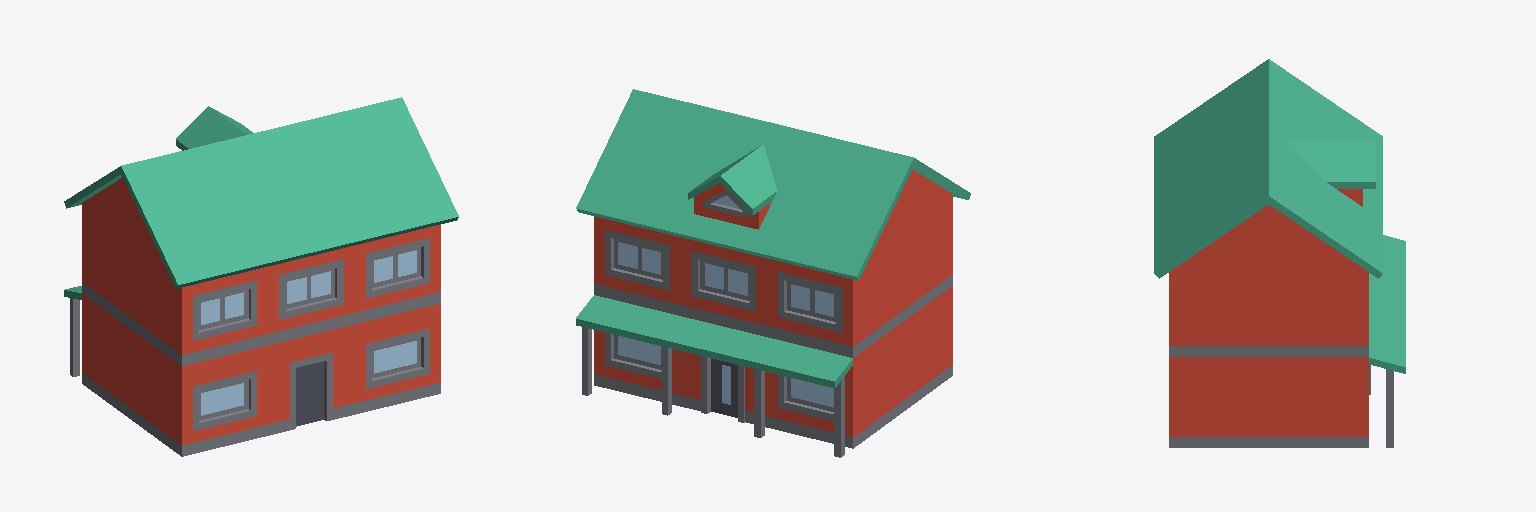
Rendered from house_type12.obj.
3 renders of one model, left to right at view 1: azimuth 30°, elevation 25°; view 2: azimuth 150°, elevation 25°; view 3: azimuth 270°, elevation 25°, orthographic.
Parts seen in each view (by area): view 1: house_type12; view 2: house_type12; view 3: house_type12.
Boxes of the visible parts, x1,y1,x2,y2 form: house_type12: [64, 97, 458, 456]; house_type12: [576, 89, 970, 457]; house_type12: [1154, 59, 1405, 447].
Bounding box in the file's own units: 1.3 × 1.14 × 1.01.